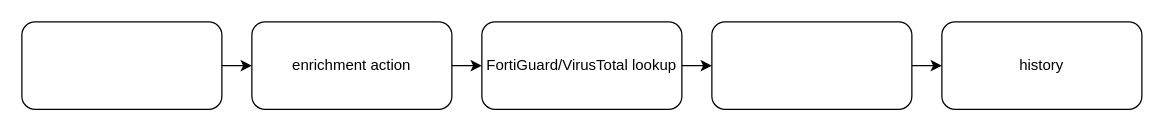
Image size: 1164x131. Some labels were removed from this diagram. Here are the shapes that lost their labels. From the top down, the centre of each, then its label:
At [121,65]: "incident indicator".
At [811,65]: "save enrichment".
